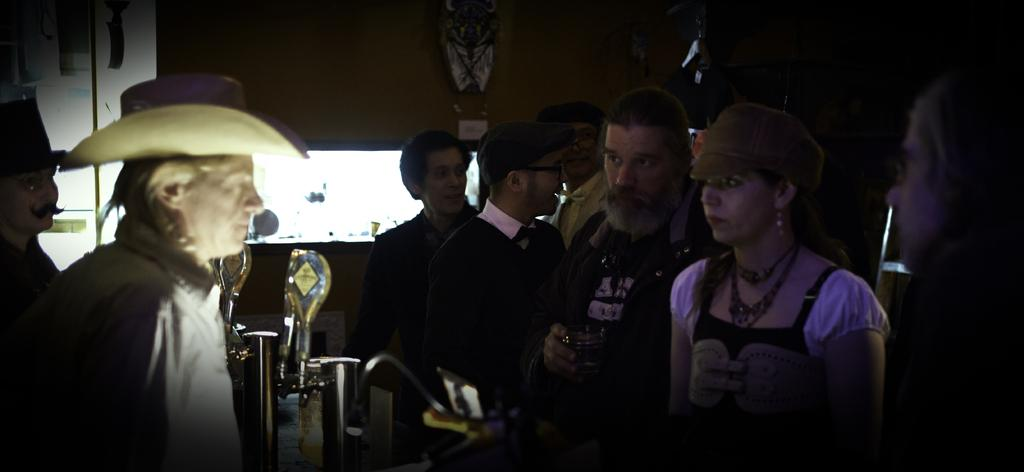Hat: (58, 77, 314, 171), (687, 102, 822, 196), (0, 96, 83, 172), (477, 123, 576, 184)
